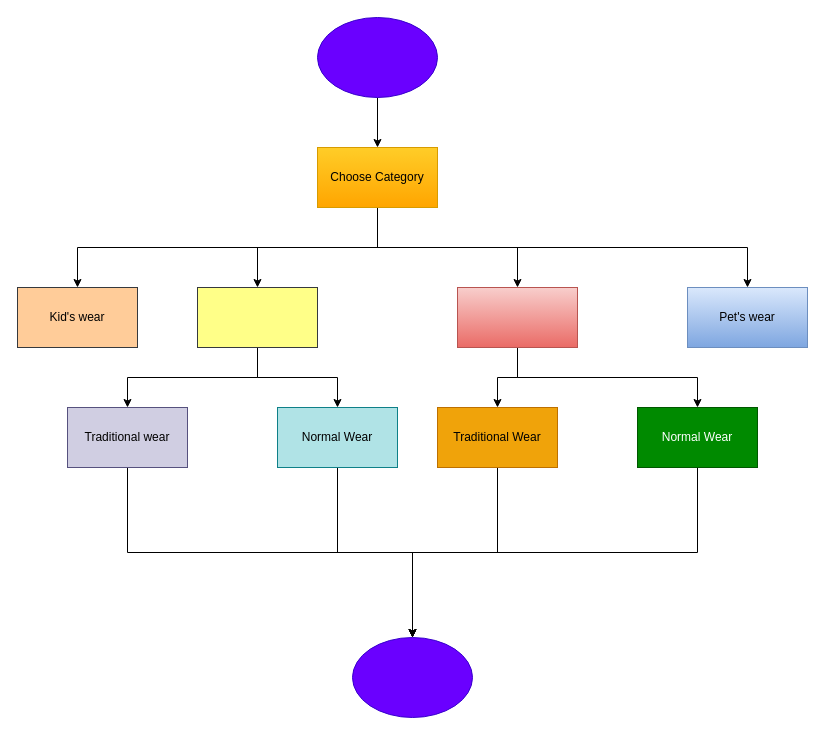
Image size: 825x735. Some labels were removed from this diagram. Here are the shapes that lost their labels. From the top down, the centre of each, then its label:
(377,57): Start
(257,317): Women's Wear
(517,317): Men's Wear
(412,677): Stop
